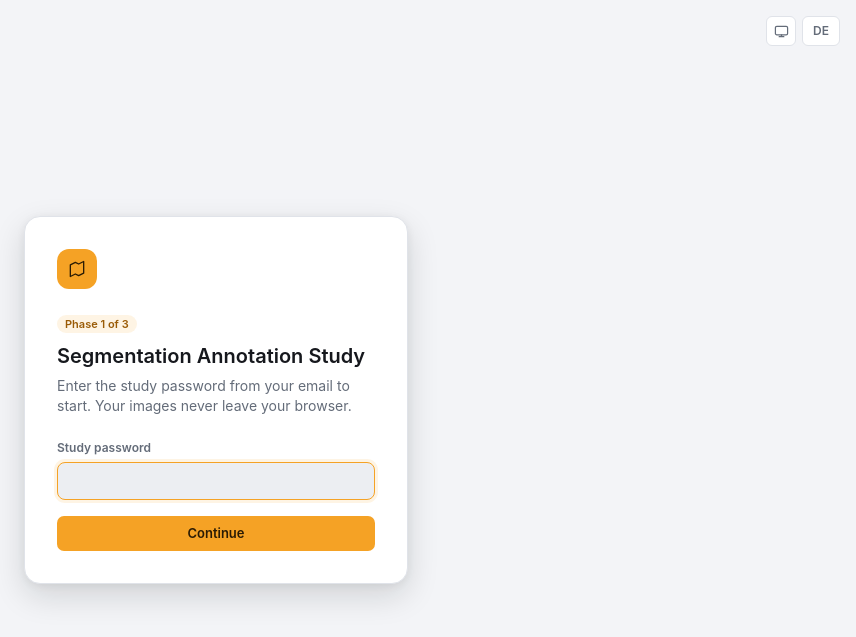
phase 1 entry gate › rejects an empty password
What coordinates should you click on to do the following:
click the button "Continue"
I would click on:
 (216, 533)
Its box is [57,516,375,551].
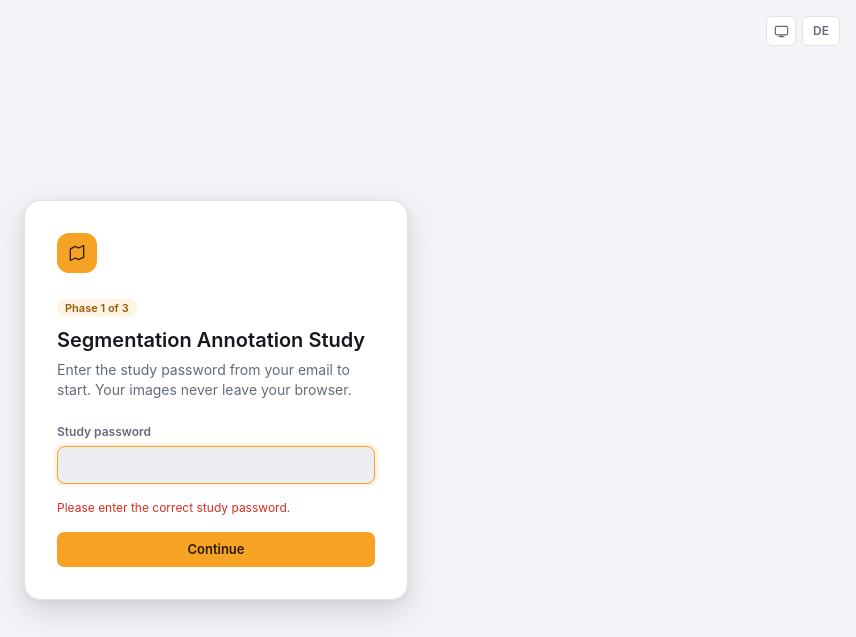
Check: the message shows "study password", box [57,500,290,515]
